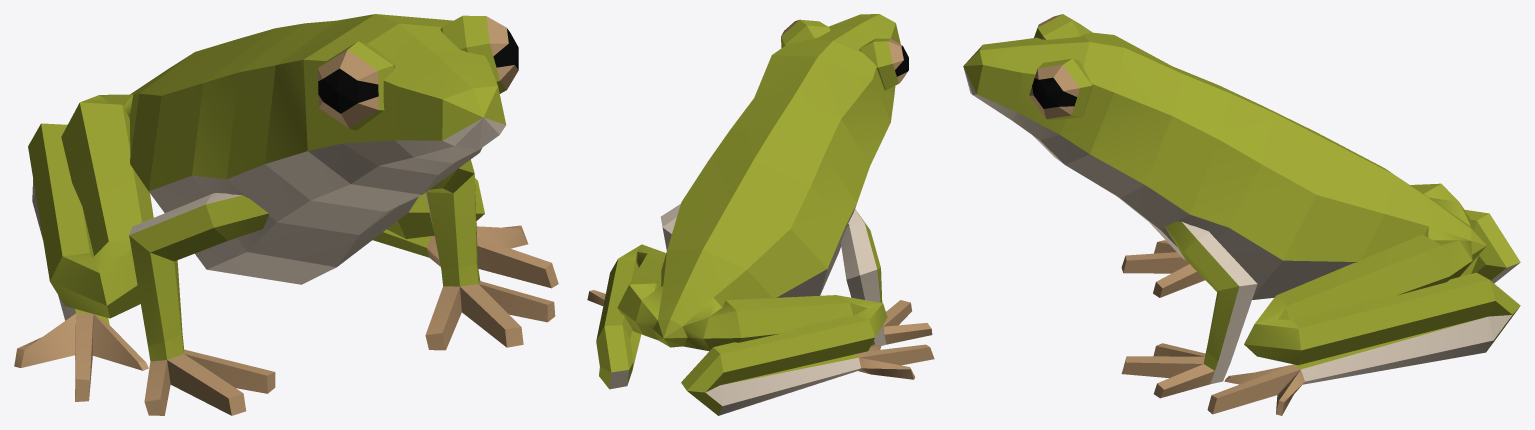
The model's file is frog.dae.
3 renders of one model, left to right at view 1: azimuth 30°, elevation 25°; view 2: azimuth 150°, elevation 25°; view 3: azimuth 270°, elevation 25°, orthographic. The views are drawn at different scales.
Parts seen in each view (by area): view 1: Geo_Frog; view 2: Geo_Frog; view 3: Geo_Frog.
Boxes of the visible parts, x1,y1,x2,y2 form: Geo_Frog: (14,14,558,415); Geo_Frog: (587,14,934,415); Geo_Frog: (963,14,1520,415).
Size of the model in its own units: 1.63 by 2.05 by 1.16.
1 material, 1 textured.
